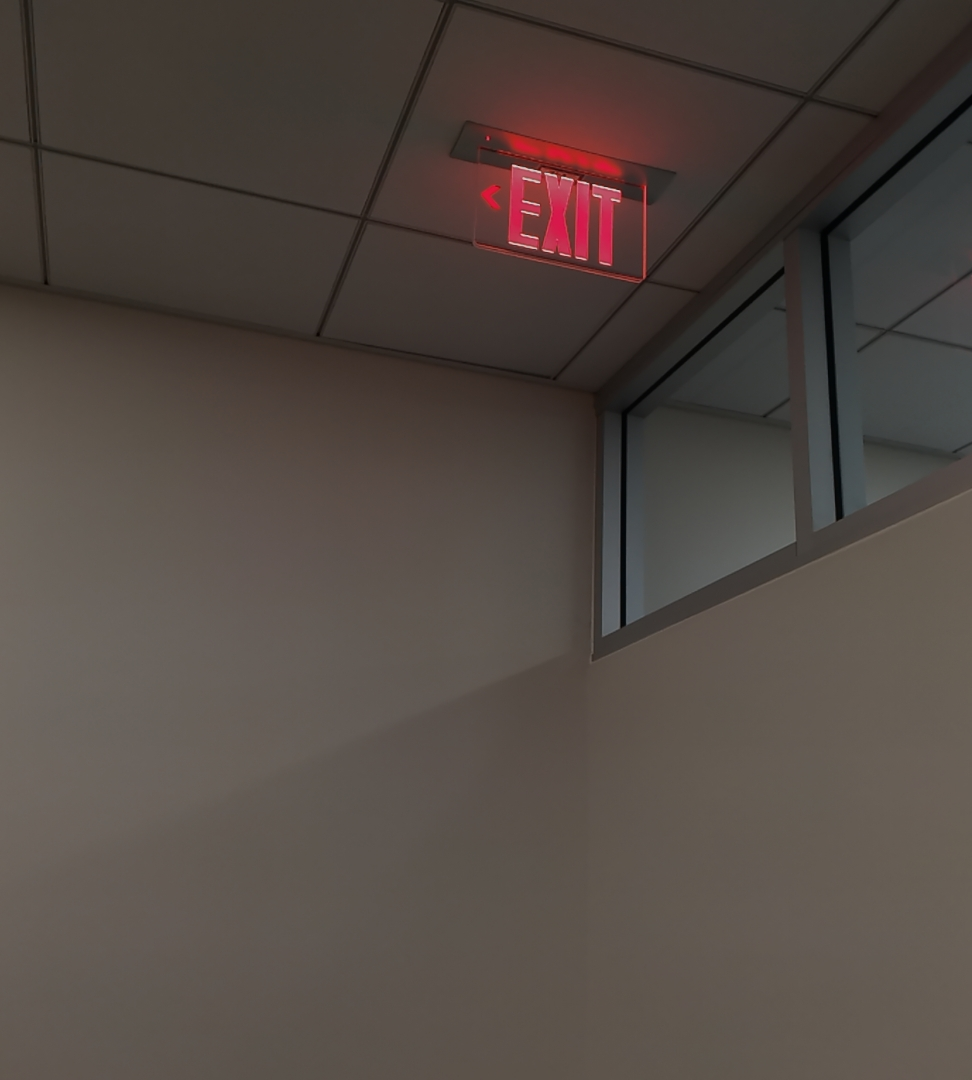emergency_exit: (448, 120, 659, 286)
